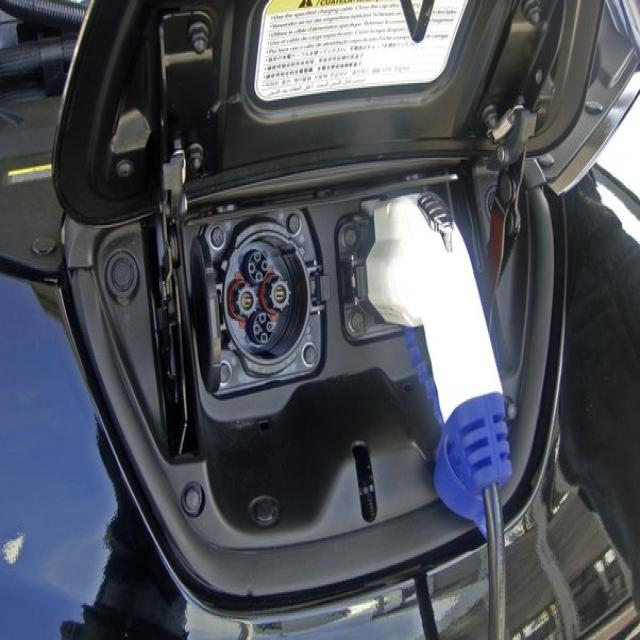CHAdeMO: (211, 202, 325, 405)
